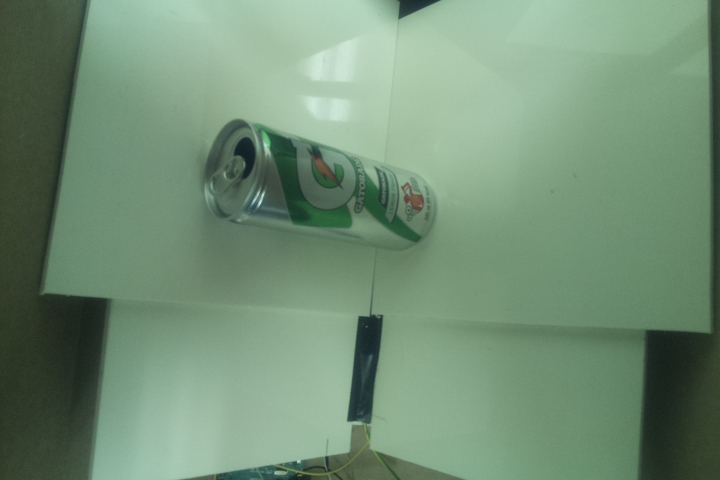can: (202, 118, 439, 251)
